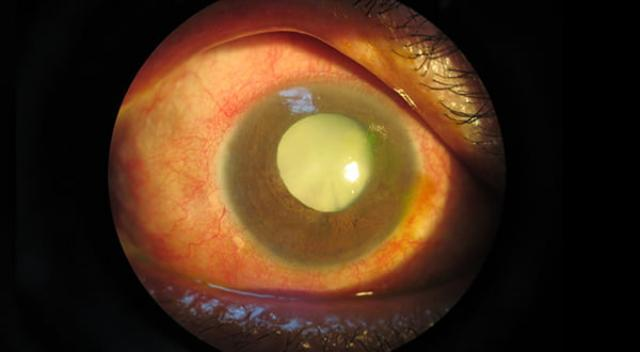eye: (224, 91, 422, 268)
